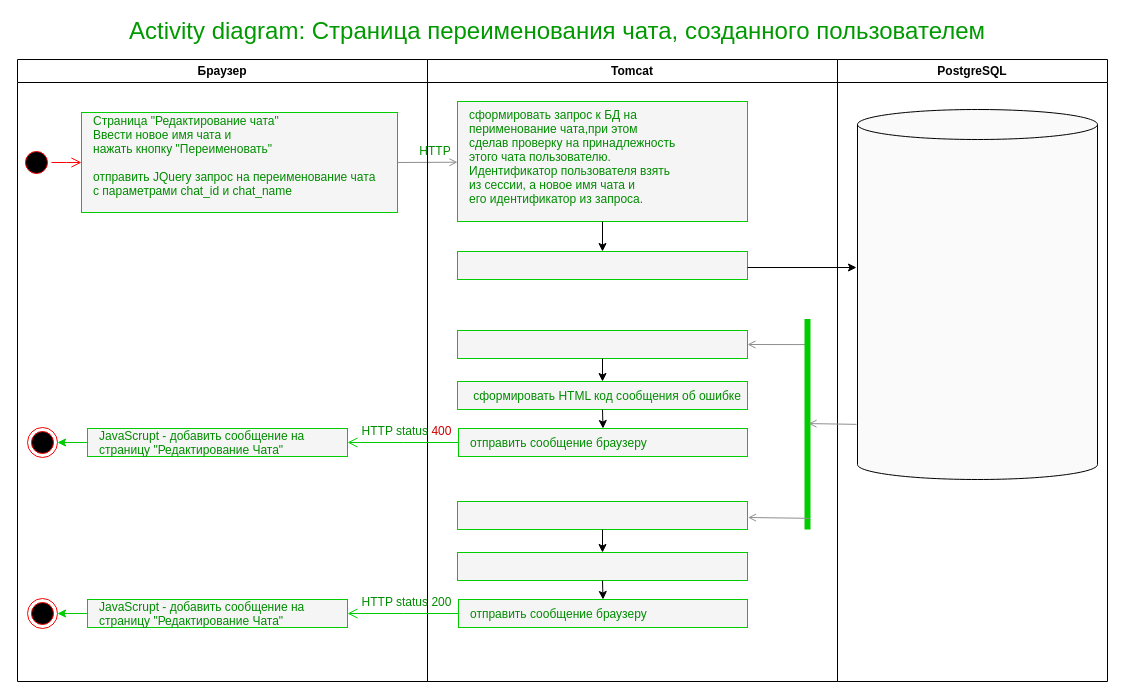
This 1125x699 diagram has some shape labels left out. The centre of each missing label's shape, as x and y in pixels:
запросить переименование в БД: point (602, 265)
обновить запись чата в таблице user_chats: point (977, 294)
ошибка: point (602, 344)
переименование выполнено: point (602, 515)
сформировать HTML код сообщения о переименовании: point (602, 566)
